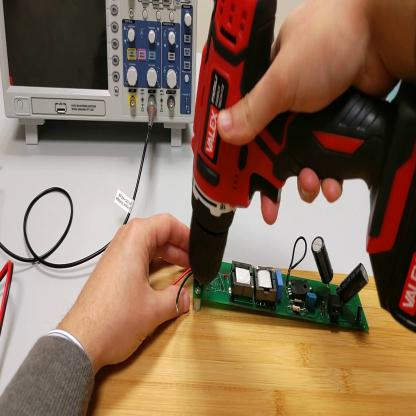electric screwdriver: (191, 2, 416, 334)
hand: (208, 2, 393, 228), (82, 213, 196, 368)
high voltage board: (164, 215, 377, 335)
oscilloscope: (2, 2, 199, 152)
working area: (88, 254, 416, 416)
